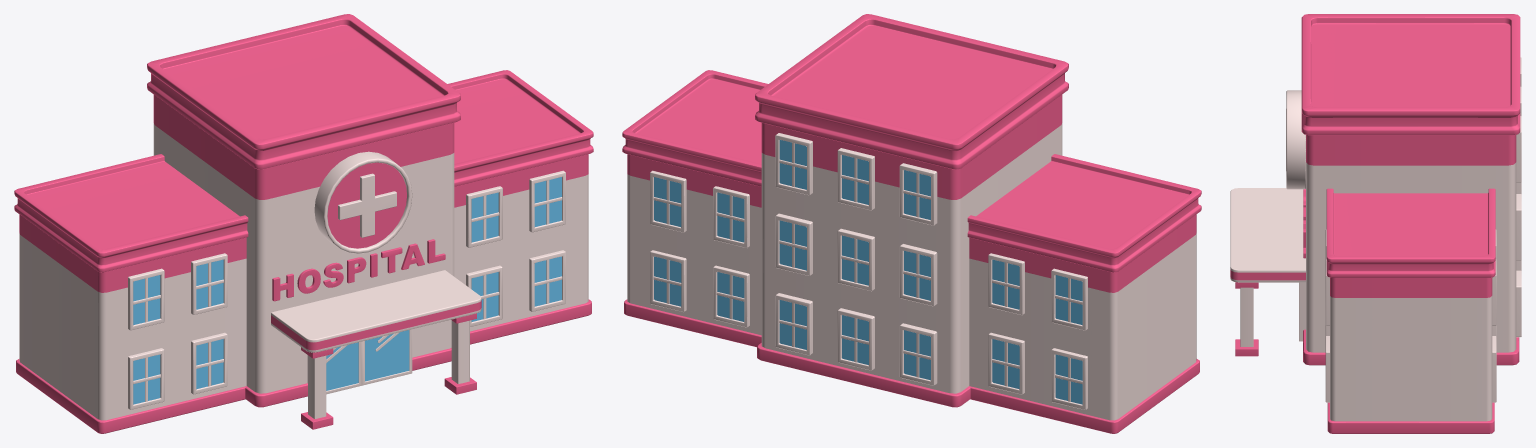
Rendered from Public_3_Hospital_1.glb.
3 views of the same model, side by side, from view 1: azimuth 30°, elevation 25°; view 2: azimuth 150°, elevation 25°; view 3: azimuth 270°, elevation 25° (orthographic). The views are drawn at different scales.
Visible parts, largest first — view 1: Public_3_Hospital_1; view 2: Public_3_Hospital_1; view 3: Public_3_Hospital_1.
Part boxes in pixels (box(x1,y1,x2,y2)): Public_3_Hospital_1: box(14, 14, 593, 433); Public_3_Hospital_1: box(622, 14, 1201, 433); Public_3_Hospital_1: box(1230, 14, 1521, 433).
Bounding box in the file's own units: 19.6 × 9.99 × 10.32.
1 material, 1 textured.
